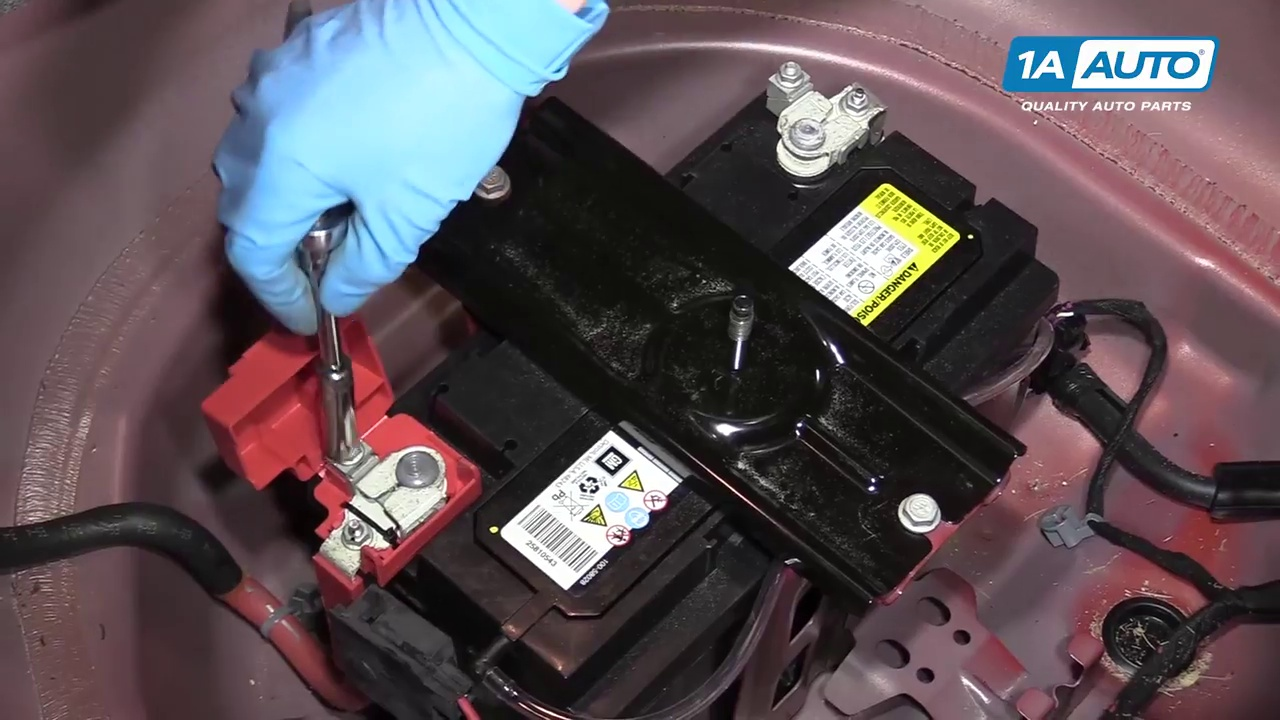battery: (321, 64, 1047, 651)
neg_connected: (745, 40, 905, 198)
pos_connected: (243, 349, 469, 601)
pos_touched: (177, 151, 469, 575)
